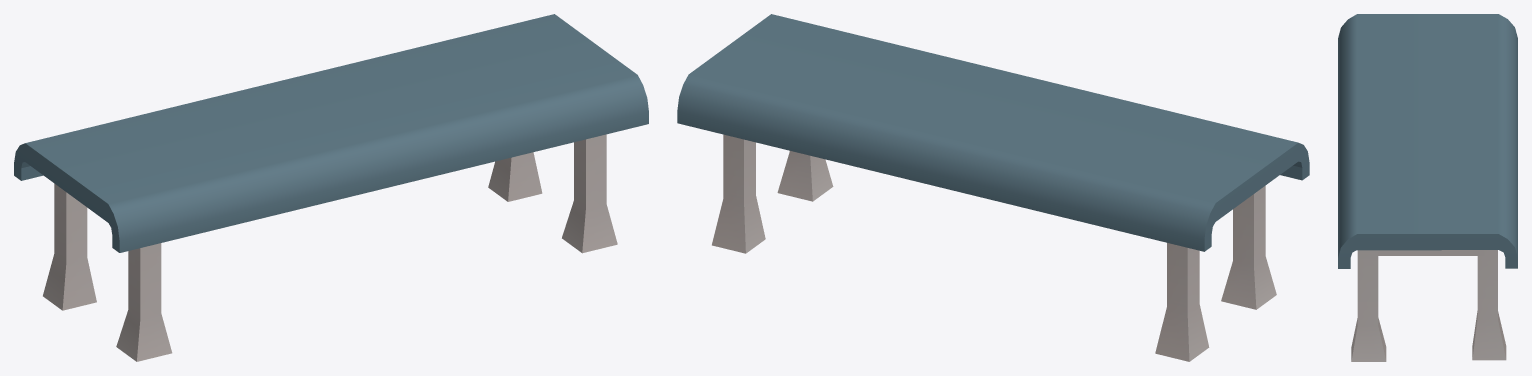
Rendered from Bench_03.glb.
3 renders of one model, left to right at view 1: azimuth 30°, elevation 25°; view 2: azimuth 150°, elevation 25°; view 3: azimuth 270°, elevation 25°, orthographic. The views are drawn at different scales.
Visible parts, largest first — view 1: Bench_03; view 2: Bench_03; view 3: Bench_03.
Boxes of the visible parts, box(x1,y1,x2,y2) form: Bench_03: box(14, 14, 648, 361); Bench_03: box(677, 14, 1309, 361); Bench_03: box(1338, 14, 1517, 361).
Size of the model in its own units: 1.7 by 0.4959 by 0.5872.
1 material, 1 textured.
